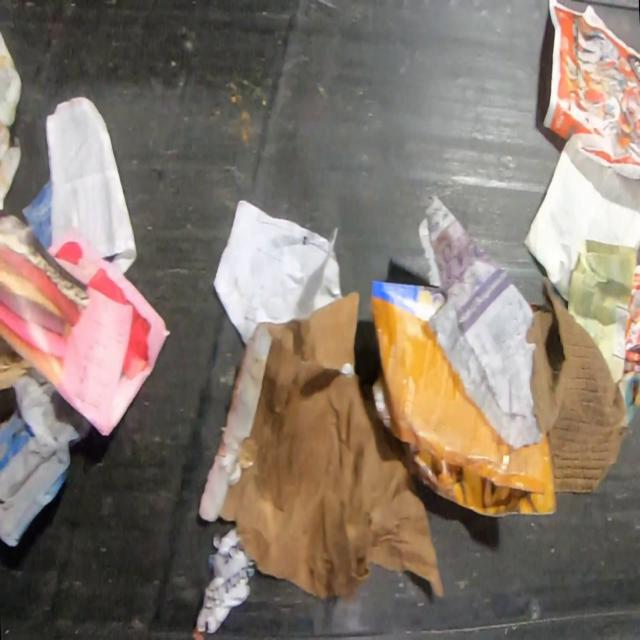cardboard: (368, 282, 556, 518), (526, 275, 634, 495)
